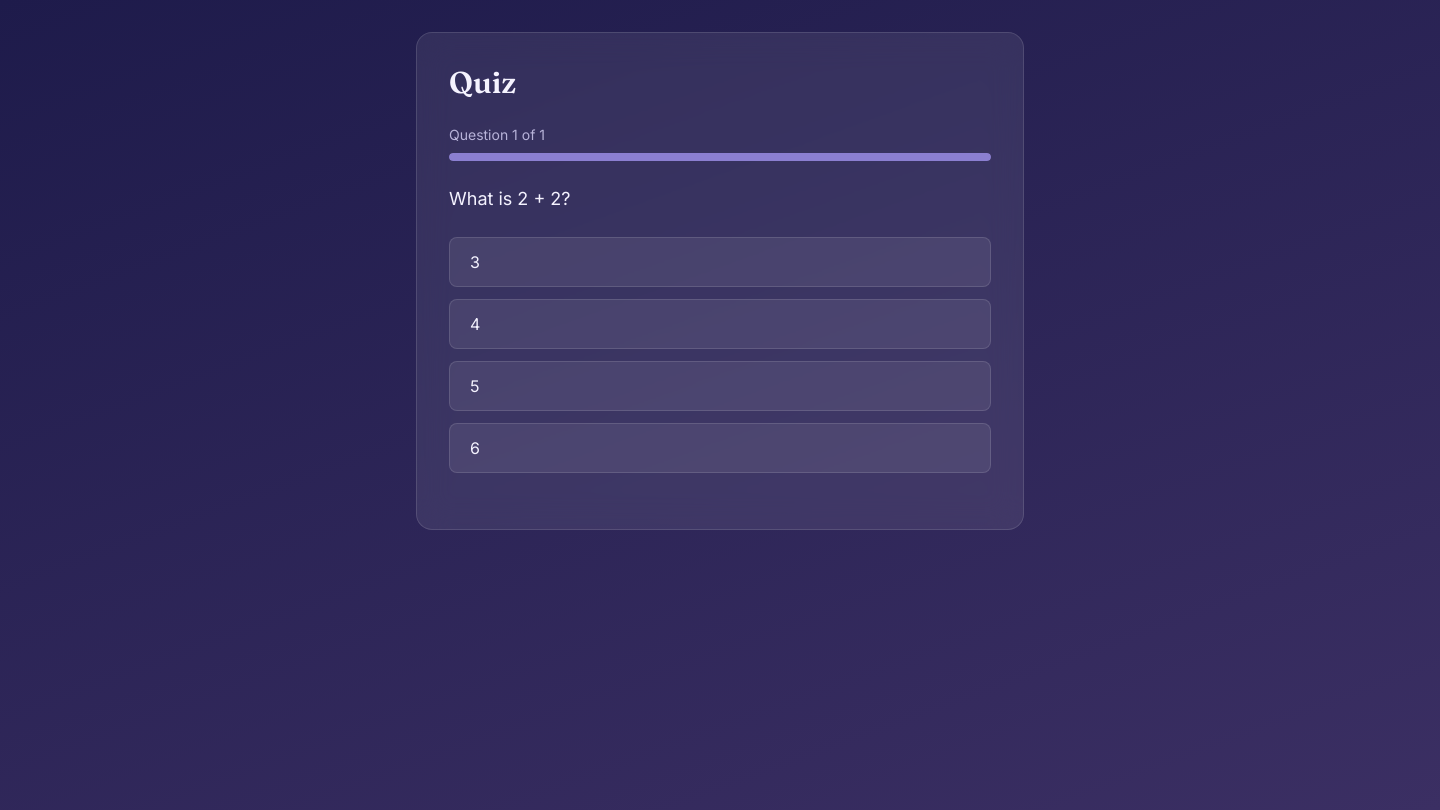
Test case: QuizPage › shows correct feedback when the right answer is selected
Expected: the text "What is 2 + 2?" is shown, x1=449 y1=188 x2=571 y2=209
Click the button "4": point(475, 324) x1=449 y1=299 x2=991 y2=349
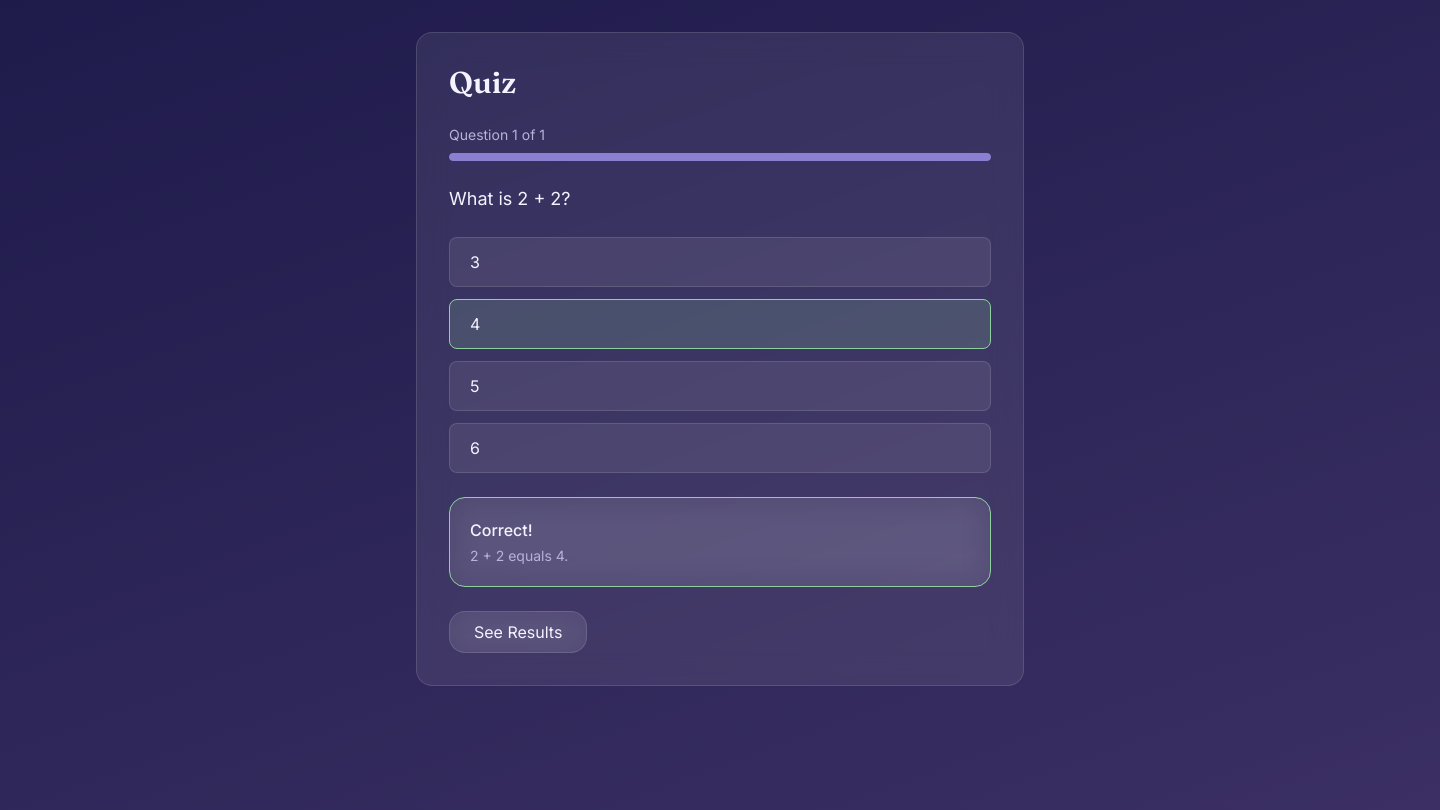
Now the text "Correct!" is shown, box x1=470 y1=520 x2=533 y2=540
Now the text "2 + 2 equals 4." is shown, box x1=470 y1=547 x2=568 y2=564
